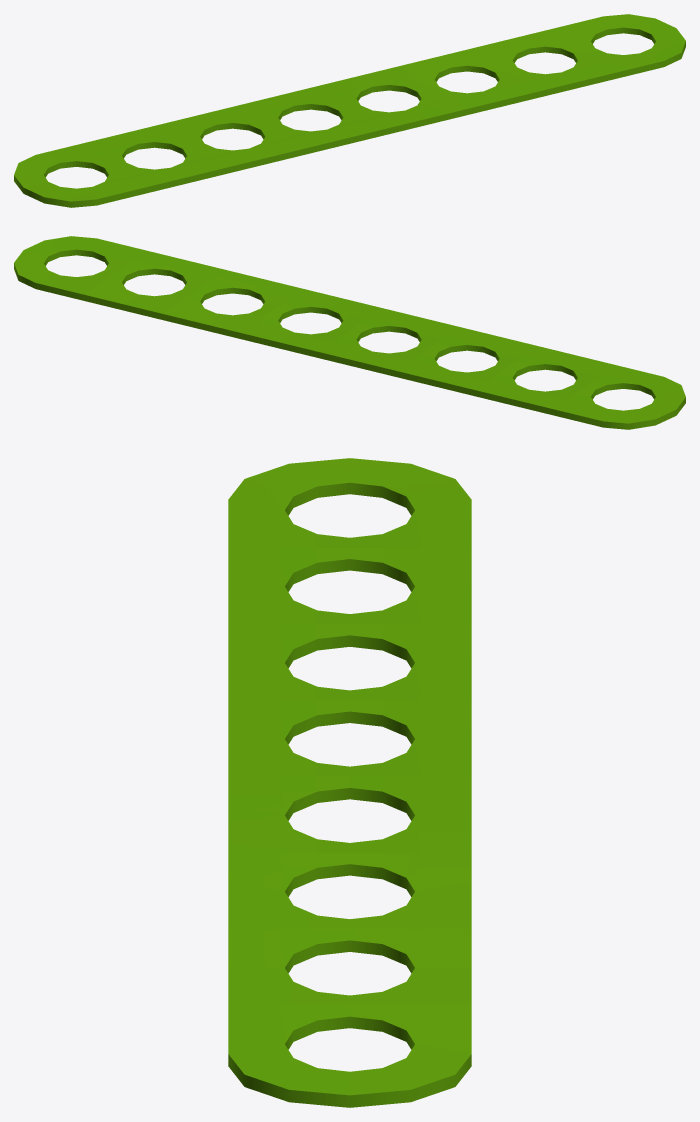
The model's file is EightLongGreen.fbx.
The picture shows the model from 3 angles, top to bottom: view 1: azimuth 30°, elevation 25°; view 2: azimuth 150°, elevation 25°; view 3: azimuth 270°, elevation 25°; orthographic projection. The views are drawn at different scales.
Visible parts, largest first — view 1: Blue8; view 2: Blue8; view 3: Blue8.
Part boxes in pixels (box(x1,y1,x2,y2)): Blue8: box(14, 14, 685, 207); Blue8: box(14, 236, 685, 429); Blue8: box(228, 458, 471, 1107).
Bounding box in the file's own units: 21.36 × 0.1942 × 3.45.
